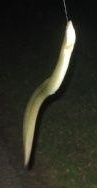Anguilla anguilla: (20, 20, 77, 168)
